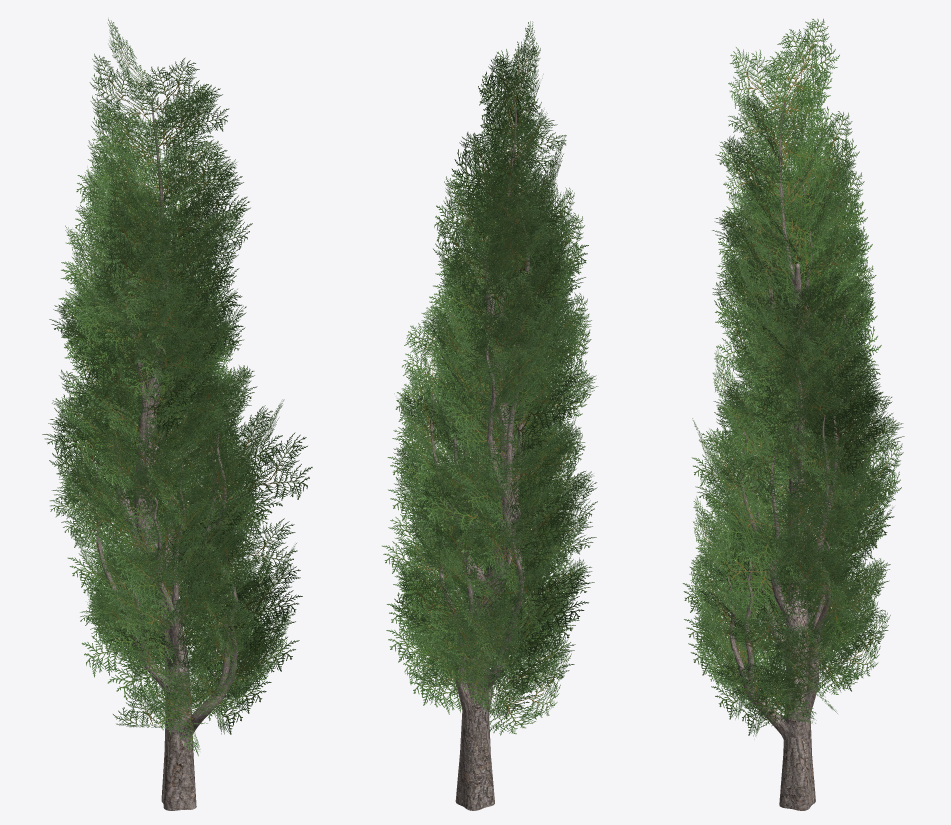
Rendered from tree.glb.
3 views of the same model, side by side, from view 1: azimuth 30°, elevation 25°; view 2: azimuth 150°, elevation 25°; view 3: azimuth 270°, elevation 25° (orthographic). The views are drawn at different scales.
Parts seen in each view (by area): view 1: pine_2_1, trunk_2_1_0; view 2: pine_2_1, trunk_2_1_0; view 3: pine_2_1, trunk_2_1_0.
Boxes of the visible parts, x1,y1,x2,y2 form: pine_2_1: (42, 18, 312, 756); trunk_2_1_0: (95, 97, 237, 810); pine_2_1: (382, 21, 598, 735); trunk_2_1_0: (430, 95, 546, 810); pine_2_1: (682, 18, 904, 736); trunk_2_1_0: (728, 97, 848, 810).
Size of the model in its own units: 3.8 by 10.58 by 3.52.
Materials: 2 (2 with a texture image).
